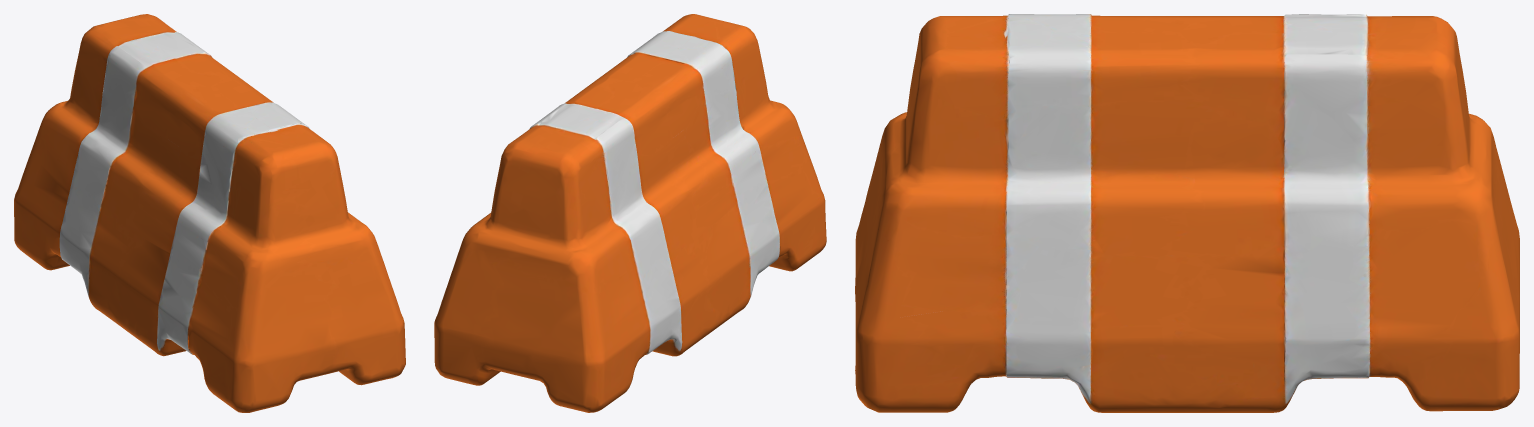
File: barrier_low.glb
3 views of the same model, side by side, from view 1: azimuth 30°, elevation 25°; view 2: azimuth 150°, elevation 25°; view 3: azimuth 270°, elevation 25° (orthographic). The views are drawn at different scales.
Parts seen in each view (by area): view 1: tripo_node_0dc02cb4-7fc0-4ec5-b06c-351a805d3c4c; view 2: tripo_node_0dc02cb4-7fc0-4ec5-b06c-351a805d3c4c; view 3: tripo_node_0dc02cb4-7fc0-4ec5-b06c-351a805d3c4c.
Boxes of the visible parts, x1=… form: tripo_node_0dc02cb4-7fc0-4ec5-b06c-351a805d3c4c: x1=14, y1=14, x2=405, y2=412; tripo_node_0dc02cb4-7fc0-4ec5-b06c-351a805d3c4c: x1=434, y1=14, x2=826, y2=412; tripo_node_0dc02cb4-7fc0-4ec5-b06c-351a805d3c4c: x1=855, y1=14, x2=1519, y2=412.
Bounding box in the file's own units: 0.4193 × 0.5338 × 0.9811.
Materials: 1 (1 with a texture image).
